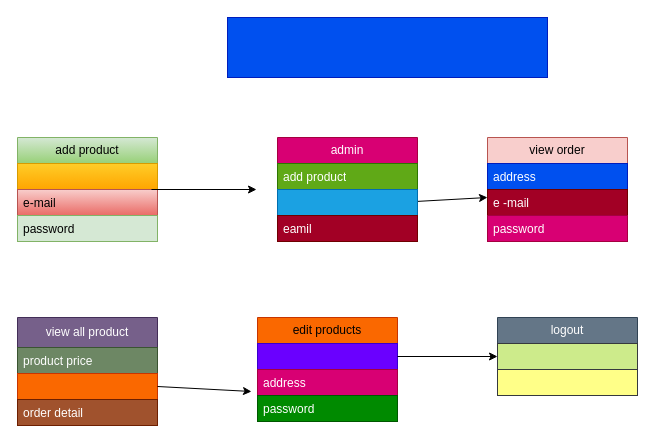
Some shapes in this 655 by 446 pixel diagram are drawn without their labels. Each missing label, with the centre of its shape:
add curt: pixel 87 386
catagaries: pixel 327 356
class diagram: pixel 387 47
login: pixel 87 176
sign in: pixel 567 356
sign out: pixel 567 382
